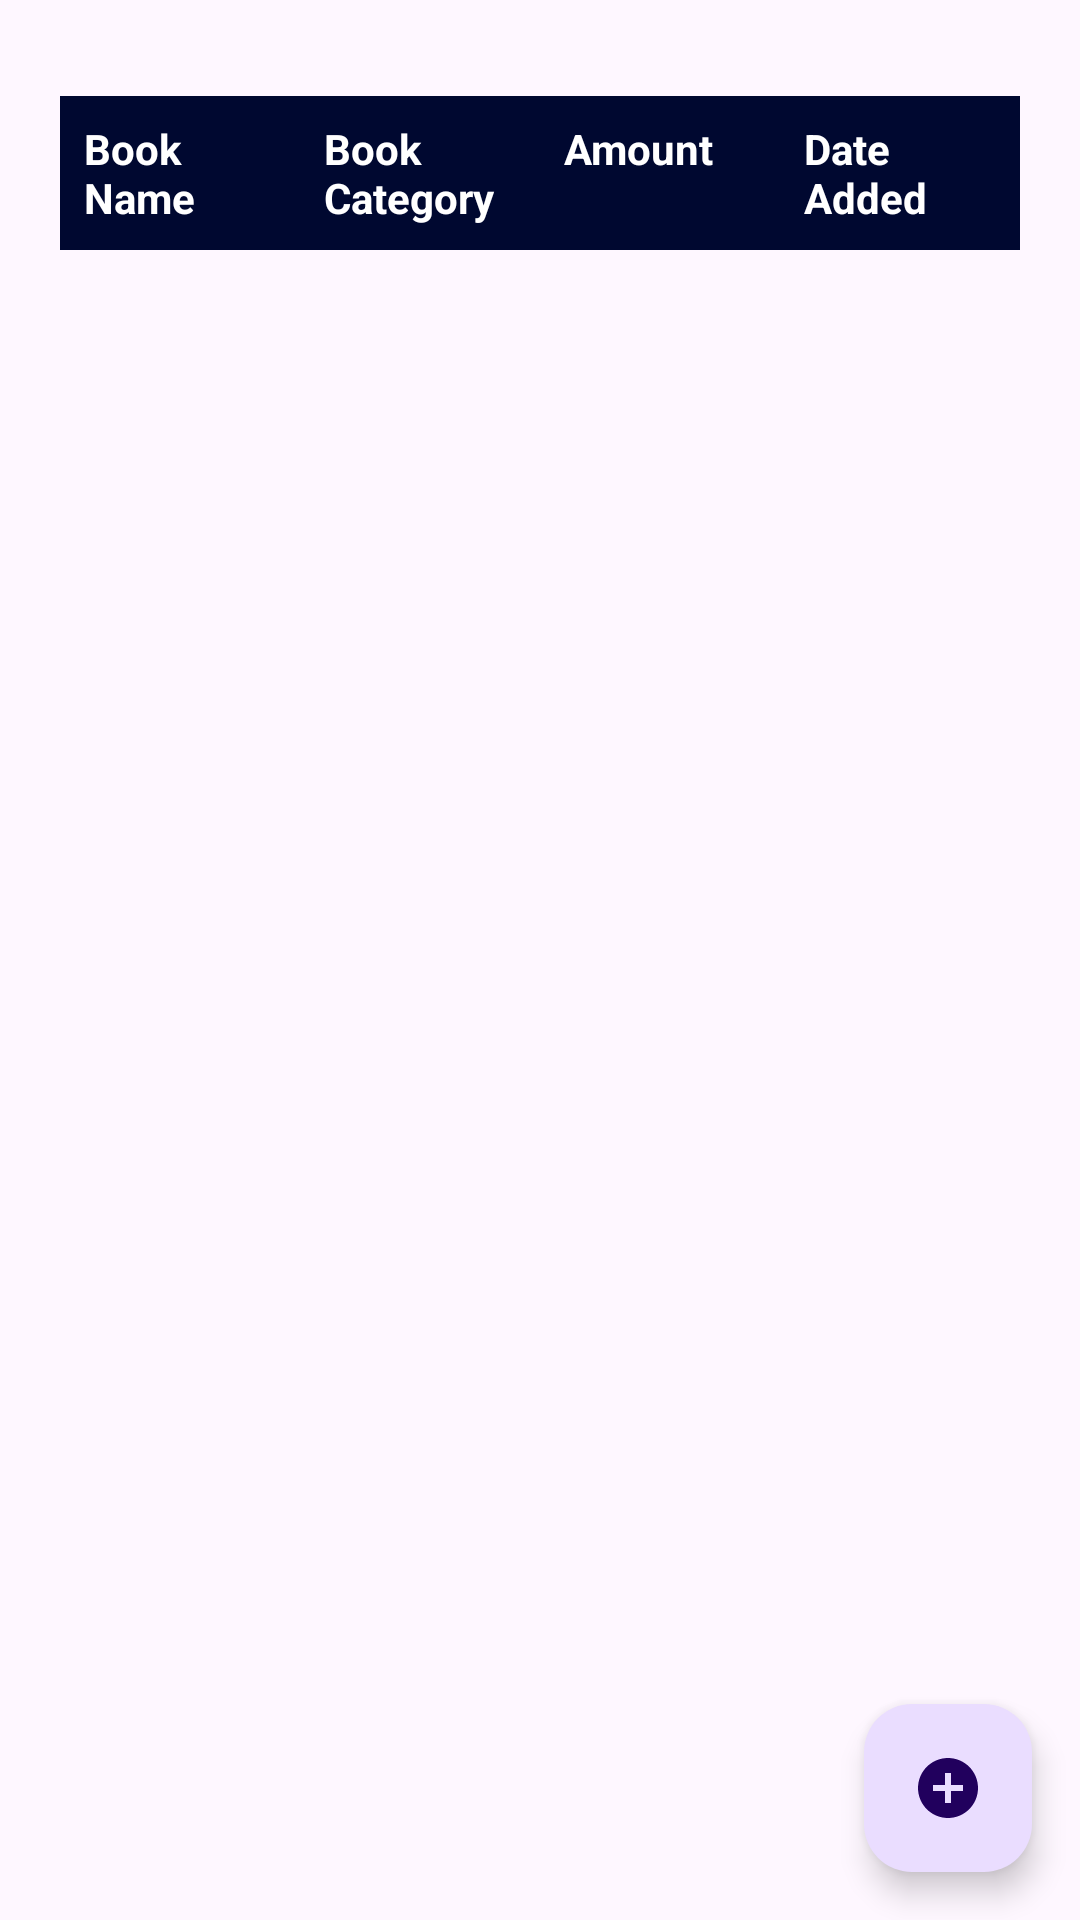

Named icons in this screenshot (1080px×1920px) and their centers, point (x, y):
add circle: point (948, 1788)
